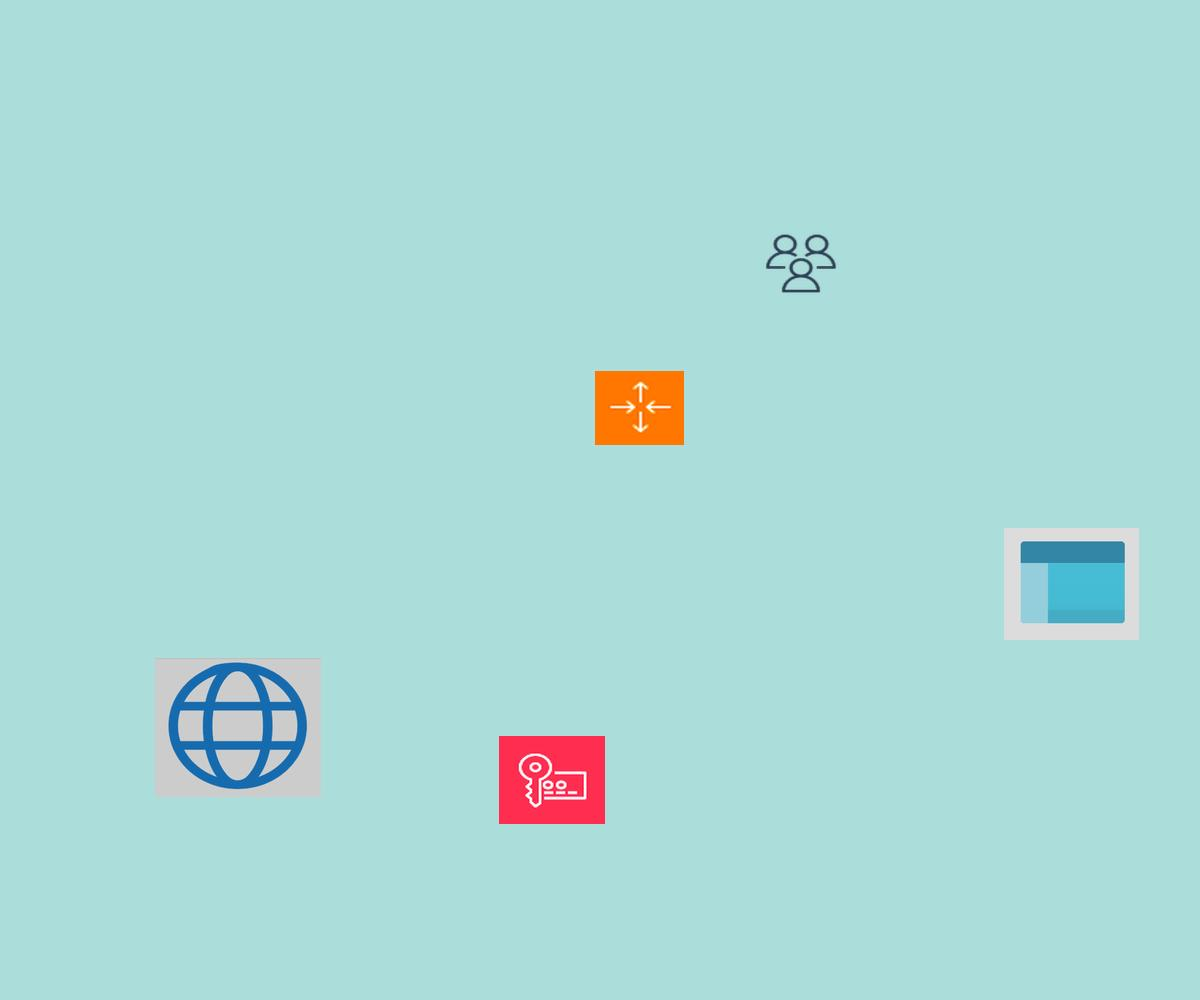AWS-Key-Management-Service: (499, 736, 605, 824)
AWS-Res_Users: (763, 232, 839, 295)
AWS-Scaling-group: (595, 371, 684, 445)
Azure_http: (155, 658, 321, 797)
Azure_management-portal: (1004, 528, 1139, 640)
